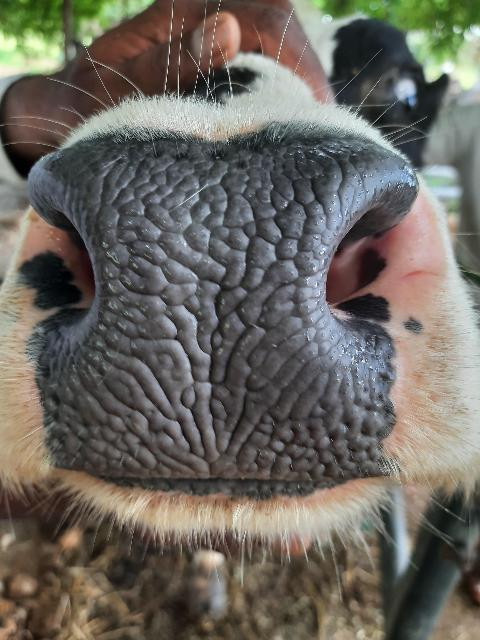Muzzle: (68, 146, 332, 478)
